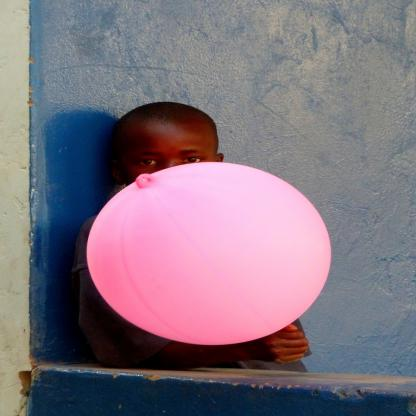Ball: (87, 162, 328, 348)
